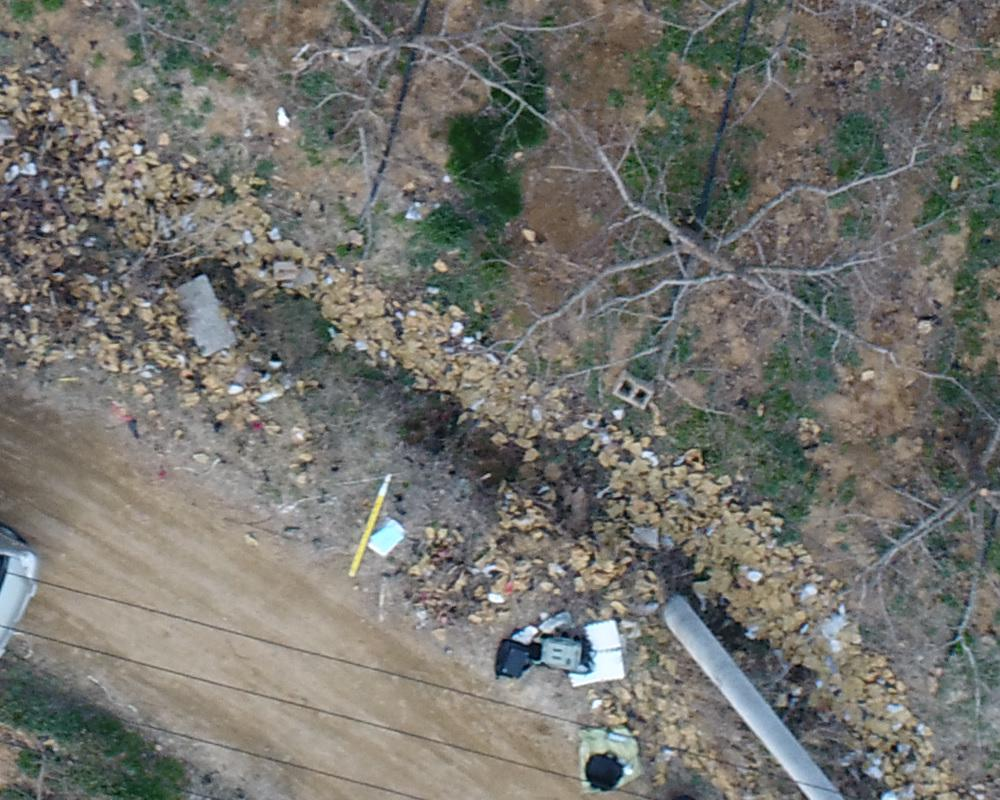apple: (538, 109, 934, 393), (198, 10, 588, 163)
